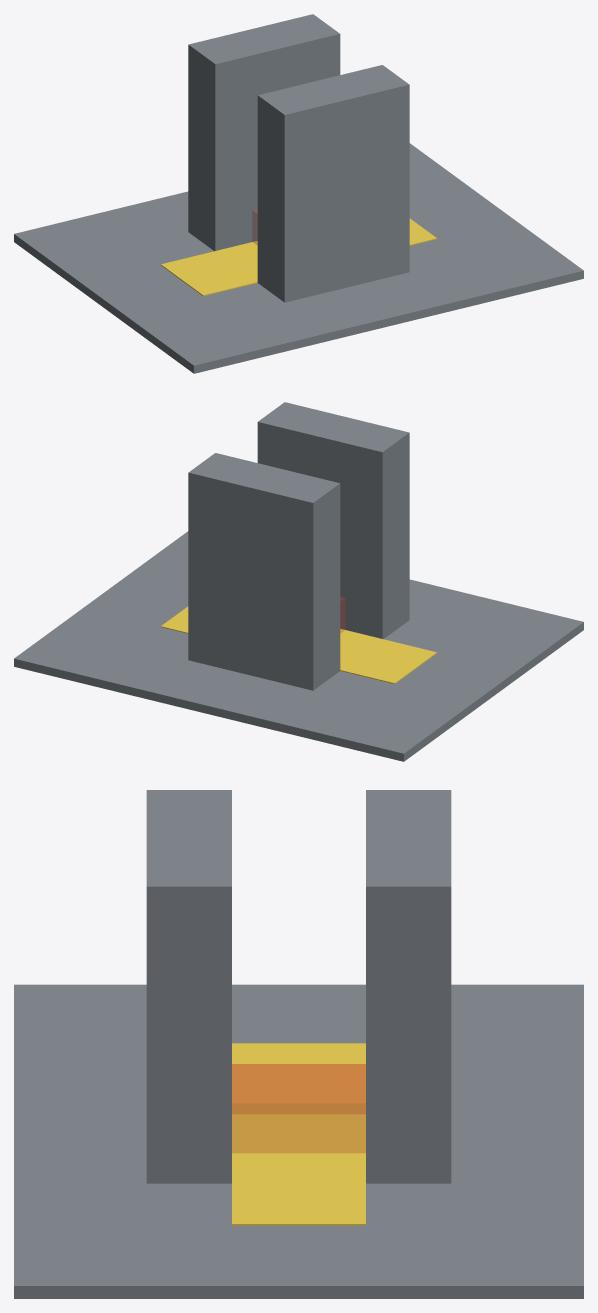
The model's file is warehouse_controlled_0_940m.glb.
3 renders of one model, top to bottom at view 1: azimuth 30°, elevation 25°; view 2: azimuth 150°, elevation 25°; view 3: azimuth 270°, elevation 25°, orthographic. The views are drawn at different scales.
Visible parts, largest first — view 1: Floor, Rack_Right, Rack_Left, Aisle_01; view 2: Floor, Rack_Left, Rack_Right, Aisle_01; view 3: Floor, Rack_Left, Rack_Right, Aisle_01, Blocker_Region_01.
Boxes of the visible parts, x1,y1,x2,y2 form: Floor: [14, 143, 583, 373]; Rack_Right: [257, 65, 409, 302]; Rack_Left: [188, 14, 340, 251]; Aisle_01: [161, 218, 436, 296]; Floor: [14, 531, 583, 761]; Rack_Left: [188, 453, 340, 690]; Rack_Right: [257, 402, 409, 639]; Aisle_01: [161, 606, 436, 684]; Floor: [14, 984, 583, 1298]; Rack_Left: [366, 790, 451, 1183]; Rack_Right: [146, 790, 231, 1183]; Aisle_01: [232, 1043, 365, 1225]; Blocker_Region_01: [232, 1064, 365, 1152].
Bounding box in the file's own units: 5 × 2.4 × 4.
